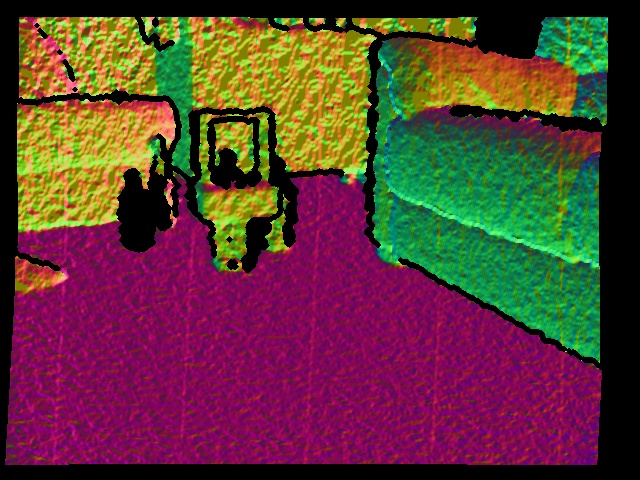station: (189, 108, 281, 218)
